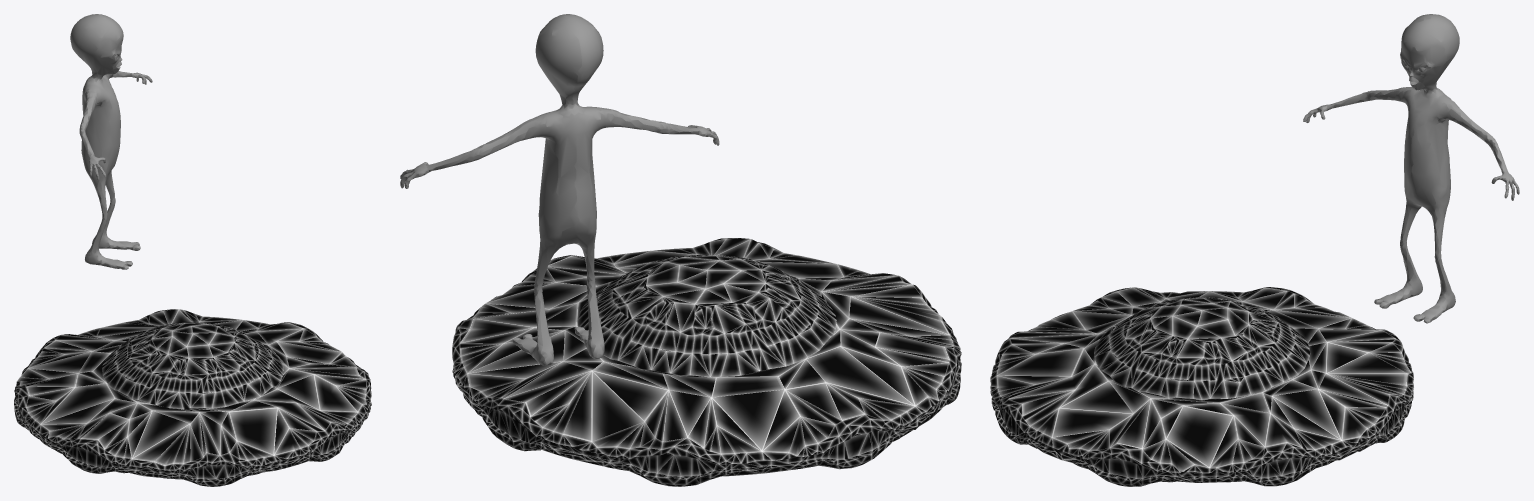
The model's file is frame_007.obj.
3 renders of one model, left to right at view 1: azimuth 30°, elevation 25°; view 2: azimuth 150°, elevation 25°; view 3: azimuth 270°, elevation 25°, orthographic. The views are drawn at different scales.
Visible parts, largest first — view 1: 13884_UFO_Saucer_v1_l2, 10469_GrayAlien_v01; view 2: 13884_UFO_Saucer_v1_l2, 10469_GrayAlien_v01; view 3: 13884_UFO_Saucer_v1_l2, 10469_GrayAlien_v01.
Part boxes in pixels (<box>): 13884_UFO_Saucer_v1_l2: <box>14,309,371,486</box>; 10469_GrayAlien_v01: <box>70,14,152,269</box>; 13884_UFO_Saucer_v1_l2: <box>452,238,961,486</box>; 10469_GrayAlien_v01: <box>400,14,719,365</box>; 13884_UFO_Saucer_v1_l2: <box>990,287,1413,486</box>; 10469_GrayAlien_v01: <box>1303,14,1519,323</box>.
Size of the model in its own units: 12.69 by 14.59 by 15.86.
